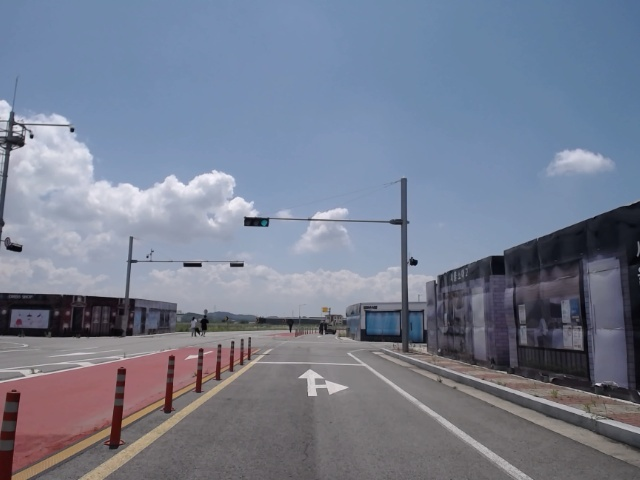green_3: (244, 216, 269, 227)
